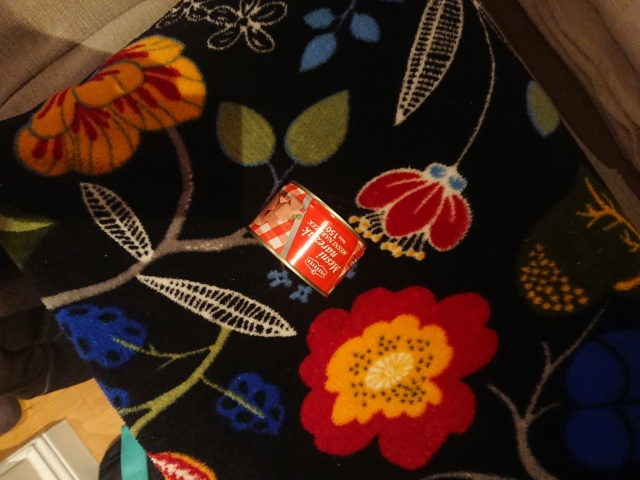Podravka Luncheon Meat 150g: (243, 175, 371, 302)
